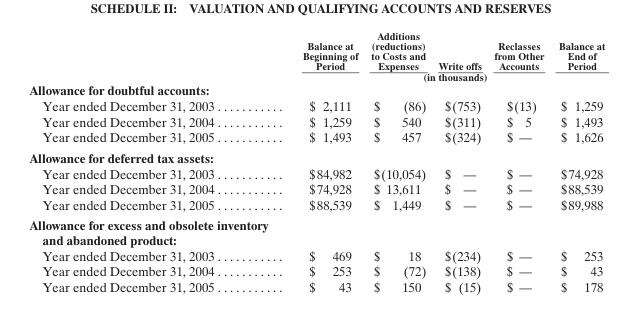table: (28, 29, 604, 293)
table column: (28, 29, 257, 293), (257, 29, 363, 293), (363, 29, 431, 293), (487, 29, 550, 293), (431, 29, 487, 293), (550, 29, 604, 293)
table column header: (28, 29, 604, 82)
table projected row header: (28, 214, 604, 247), (28, 147, 604, 165), (28, 82, 604, 97)
table row: (28, 29, 604, 71), (28, 214, 604, 247), (28, 129, 604, 147), (28, 147, 604, 165), (28, 196, 604, 214), (28, 97, 604, 113), (28, 113, 604, 129), (28, 180, 604, 196), (28, 262, 604, 278), (28, 82, 604, 97), (28, 165, 604, 180), (28, 247, 604, 262), (28, 278, 604, 293), (28, 71, 604, 82)
table spanning cell: (257, 71, 604, 82)
